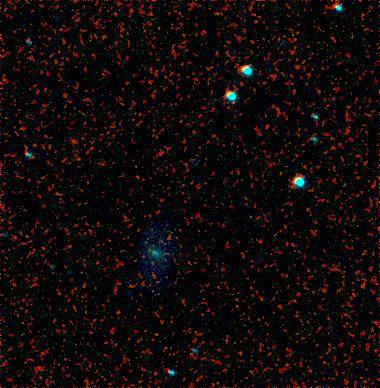star: (103, 297, 133, 327)
